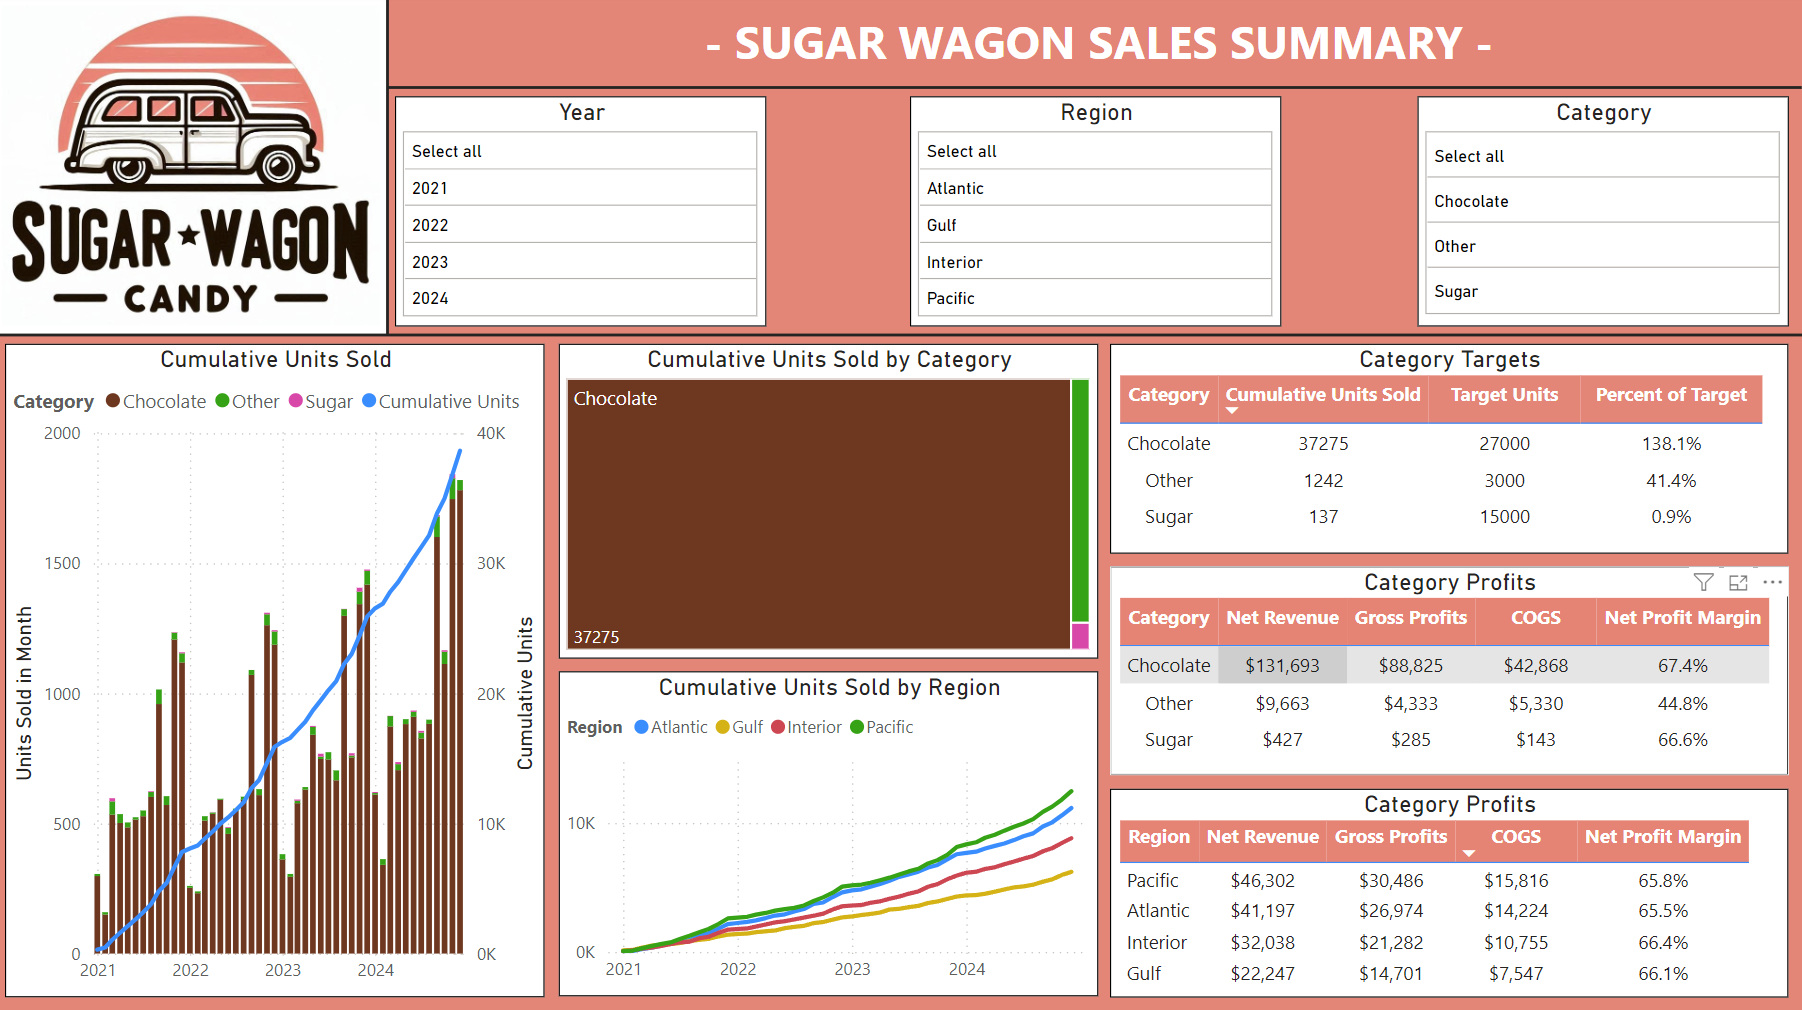

What the dashboard file says about the page in this screenshot:
{"tool":"powerbi","page":{"name":"Summary","canvas":[1280,720],"ordinal":0},"visuals":[{"type":"image","box":[0,0,278.2,241],"z":0},{"type":"treemap","title":"Cumulative Units Sold by Category","fields":{"Values":["fact CandySales.(SUM) UnitsCumulative"],"Group":["fact CandySales.Category"]},"box":[399.6,247.2,382.7,223.3],"z":1000},{"type":"shape","box":[0,234.8,1280.2,12.4],"z":2000},{"type":"shape","box":[272,0,12.4,241],"z":3000},{"type":"shape","box":[278.2,59.4,1002,12.4],"z":4000},{"type":"textbox","box":[284.4,6.2,995.8,53.2],"z":5000},{"type":"lineChart","title":"Cumulative Units Sold by Region","fields":{"Category":["dim Dates (OrderDate).FirstDayOfMonth"],"Series":["fact CandySales.Region"],"Y":["fact CandySales.CumulativeUnits (Division)"]},"box":[399.6,479.3,382.7,230.3],"z":6000},{"type":"tableEx","title":"Category Targets","fields":{"Values":["fact CandySales.Division","fact CandySales.CumulativeUnits (Division)","dim CandyTargets.Target","fact CandySales.Percent of Target (Division)"]},"box":[790.4,246.8,480.5,148.4],"z":7000},{"type":"lineStackedColumnComboChart","title":"Cumulative Units Sold","fields":{"Category":["dim Dates (OrderDate).FirstDayOfMonth"],"Y2":["fact CandySales.(SUM) CumulativeUnits"],"Y":["Sum(fact CandySales.Units)"],"Series":["fact CandySales.Division"]},"box":[7.1,247.2,382.7,463.3],"z":8000},{"type":"advancedSlicerVisual","fields":{"Values":["dim Dates (OrderDate).Date.Variation.Date Hierarchy.Year"]},"box":[283.9,71.4,263.5,163.3],"z":9000},{"type":"tableEx","title":"Category Profits","fields":{"Values":["fact CandySales.Division","fact CandySales.(SUM) SalesCumulative","fact CandySales.(SUM) ProfitCumulative","fact CandySales.(SUM) COGSCumulative","fact CandySales.(%) Net Profit Margin"]},"box":[790.4,404.8,480.6,148],"z":10000},{"type":"advancedSlicerVisual","fields":{"Values":["fact CandySales.Division"]},"box":[1008.2,71.8,263.1,163],"z":11000},{"type":"advancedSlicerVisual","fields":{"Values":["fact CandySales.Region"]},"box":[648.5,71.8,263.1,163],"z":12000},{"type":"tableEx","title":"Category Profits","fields":{"Values":["fact CandySales.Region","fact CandySales.(SUM) SalesCumulative","fact CandySales.(SUM) ProfitCumulative","fact CandySales.(SUM) COGSCumulative","fact CandySales.(%) Net Profit Margin"]},"box":[790.4,562.9,480.6,148],"z":13000}]}

Visuals, with their boxes in screenshot pixels (x1, y1, x2, y2), scaled from the page's 1280x720 canvas onto the 1802x1010 screenshot:
image: (left=0, top=0, right=392, bottom=338)
"Cumulative Units Sold by Category" treemap: (left=563, top=347, right=1101, bottom=660)
shape: (left=0, top=329, right=1801, bottom=347)
shape: (left=383, top=0, right=400, bottom=338)
shape: (left=392, top=83, right=1801, bottom=101)
textbox: (left=400, top=9, right=1801, bottom=83)
"Cumulative Units Sold by Region" lineChart: (left=563, top=672, right=1101, bottom=995)
"Category Targets" tableEx: (left=1113, top=346, right=1789, bottom=554)
"Cumulative Units Sold" lineStackedColumnComboChart: (left=10, top=347, right=549, bottom=997)
advancedSlicerVisual - dim Dates (OrderDate).Date.Variation.Date Hierarchy.Year: (left=400, top=100, right=771, bottom=329)
"Category Profits" tableEx: (left=1113, top=568, right=1789, bottom=775)
advancedSlicerVisual - fact CandySales.Division: (left=1419, top=101, right=1790, bottom=329)
advancedSlicerVisual - fact CandySales.Region: (left=913, top=101, right=1283, bottom=329)
"Category Profits" tableEx: (left=1113, top=790, right=1789, bottom=997)
